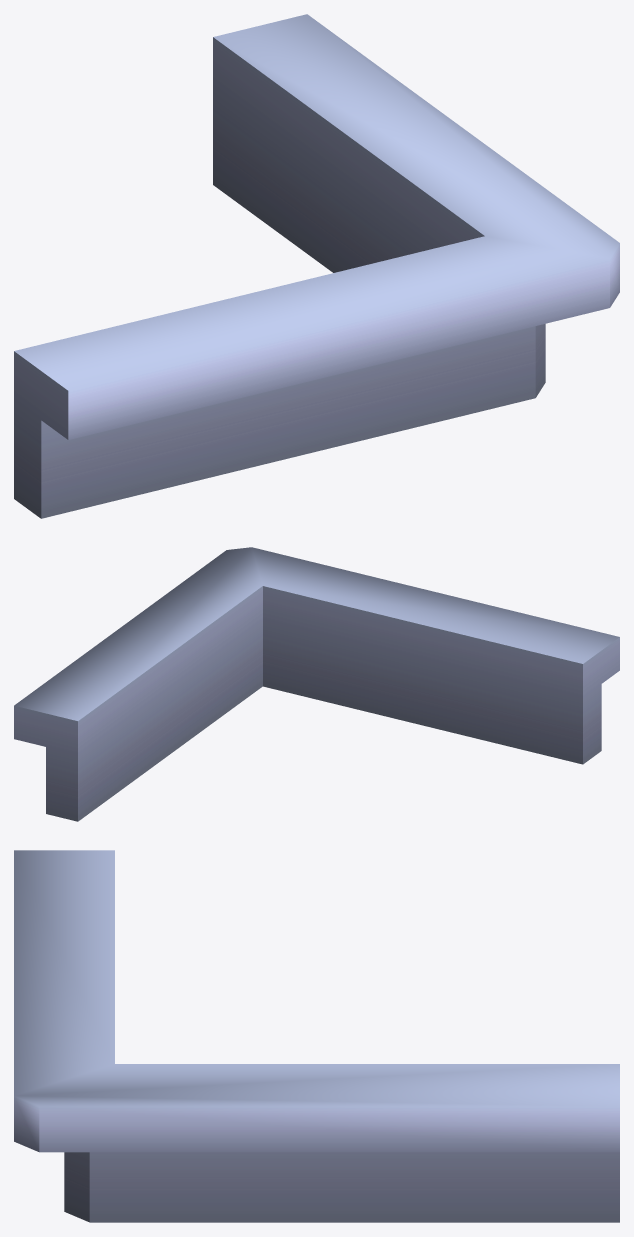
Rendered from kenney-building-border-corner-small.glb.
3 views of the same model, one above another, from view 1: azimuth 30°, elevation 25°; view 2: azimuth 150°, elevation 25°; view 3: azimuth 270°, elevation 25° (orthographic). The views are drawn at different scales.
Parts seen in each view (by area): view 1: border-corner-small; view 2: border-corner-small; view 3: border-corner-small.
Part boxes in pixels (bbox=[...]): border-corner-small: bbox=[14, 14, 619, 518]; border-corner-small: bbox=[14, 547, 619, 821]; border-corner-small: bbox=[14, 850, 619, 1222].
Bounding box in the file's own units: 1.2 × 0.3 × 1.2.
Materials: 1 (1 with a texture image).
